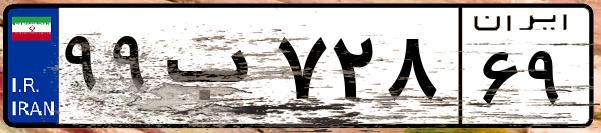2: (330, 28, 385, 110)
6: (475, 38, 525, 113)
7: (270, 28, 330, 110)
8: (385, 28, 445, 110)
9: (57, 26, 110, 100), (525, 38, 570, 115), (110, 28, 158, 98)
ب: (158, 20, 270, 120)
